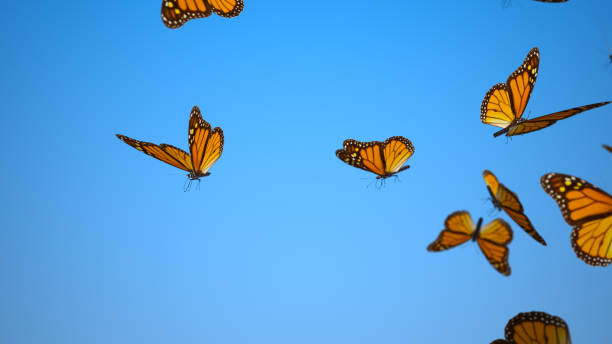Butterfly: (480, 45, 609, 142), (115, 105, 226, 192), (542, 172, 612, 266), (427, 209, 513, 277), (480, 169, 547, 247), (334, 135, 419, 187), (491, 310, 574, 344), (158, 1, 247, 31)
